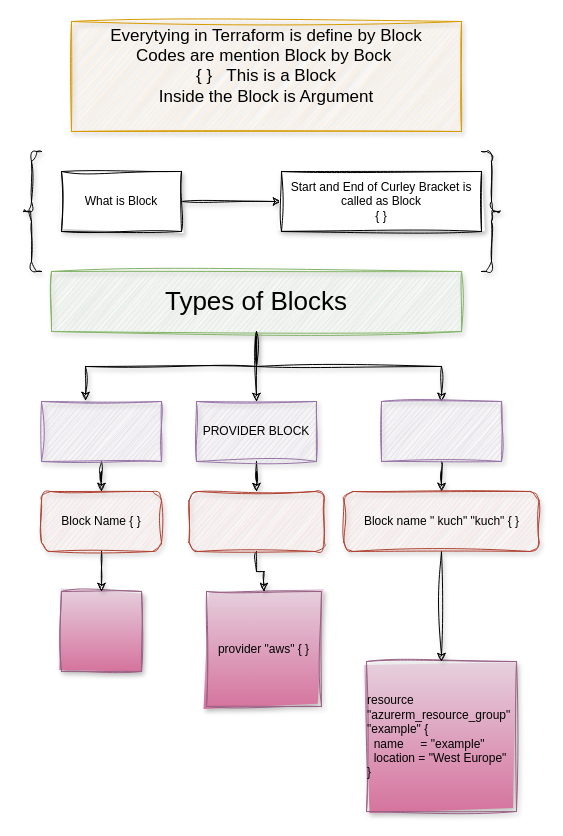
Image size: 563x836. Some labels were removed from this diagram. Here are the shapes that lost their labels. From the top down, the centre of each, then its label:
(102,432): TERRAFORM BLOCK
(442,432): RESOURCE BLOCK
(257,522): Block name "Kuch" { }
(102,632): Terraform { }
